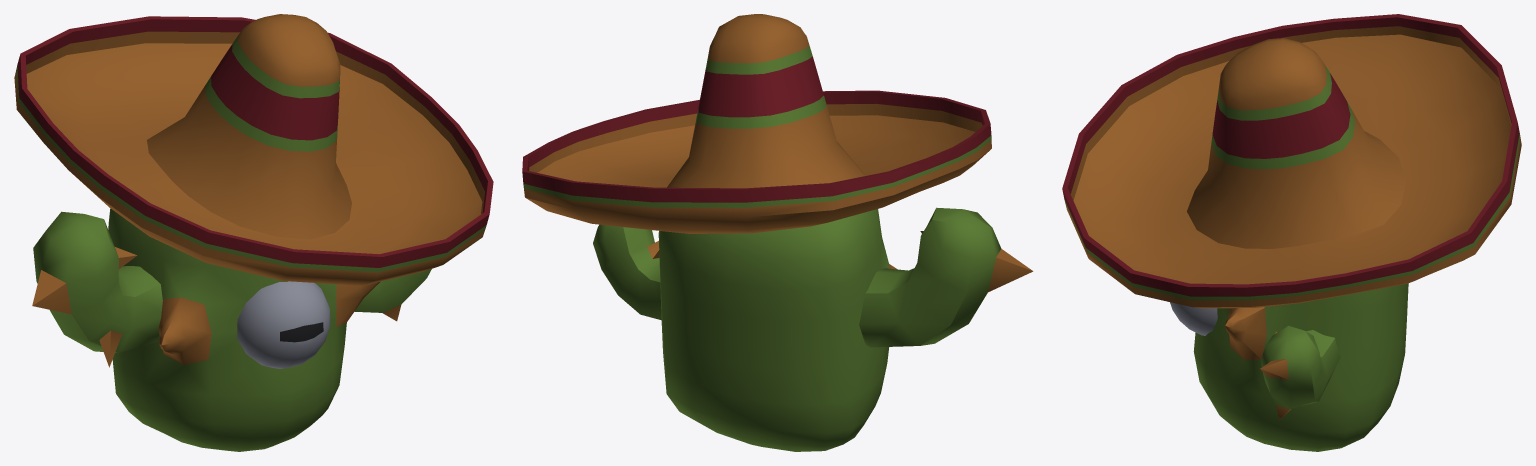
Rendered from q_cactoro.glb.
3 views of the same model, side by side, from view 1: azimuth 30°, elevation 25°; view 2: azimuth 150°, elevation 25°; view 3: azimuth 270°, elevation 25° (orthographic). The views are drawn at different scales.
Visible parts, largest first — view 1: Cactoro_Blob_b; view 2: Cactoro_Blob_b; view 3: Cactoro_Blob_b.
Boxes of the visible parts, x1,y1,x2,y2 form: Cactoro_Blob_b: (14,14,493,451); Cactoro_Blob_b: (522,14,1033,451); Cactoro_Blob_b: (1062,14,1521,451).
Bounding box in the file's own units: 1.13 × 1 × 1.03.
